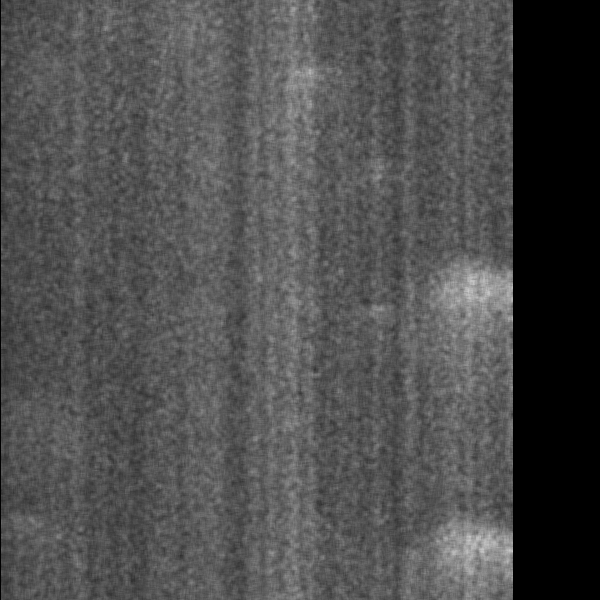spark: (445, 521, 486, 596), (443, 259, 478, 328)
